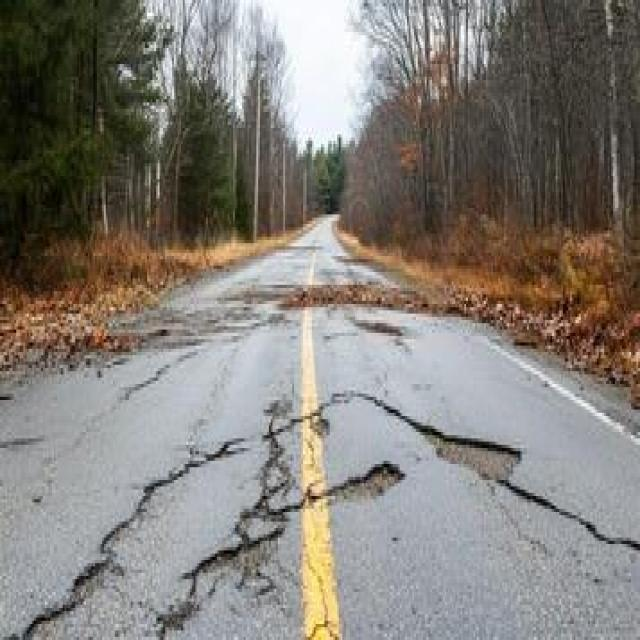road collapse: (108, 245, 600, 640)
